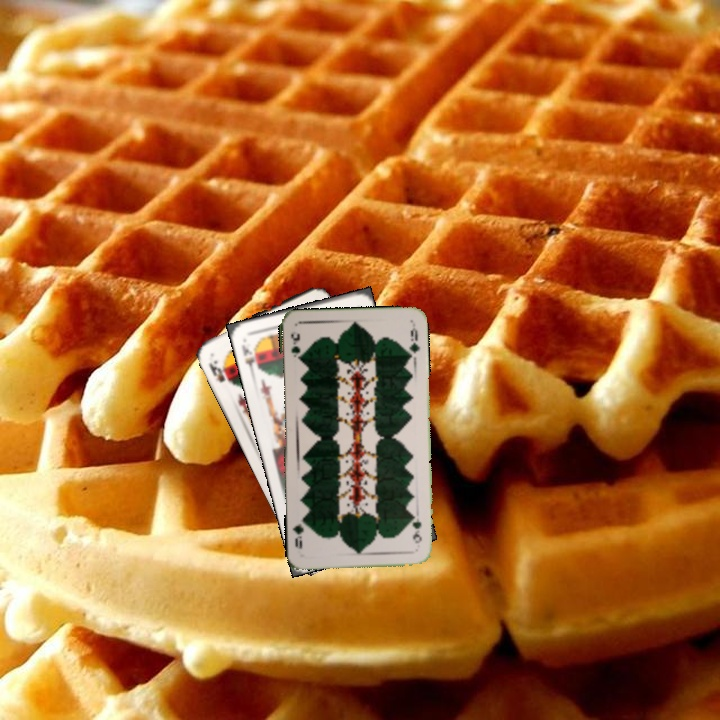G9: (287, 329, 303, 363), (409, 509, 424, 545)
SK: (205, 356, 234, 388), (237, 340, 262, 375)
